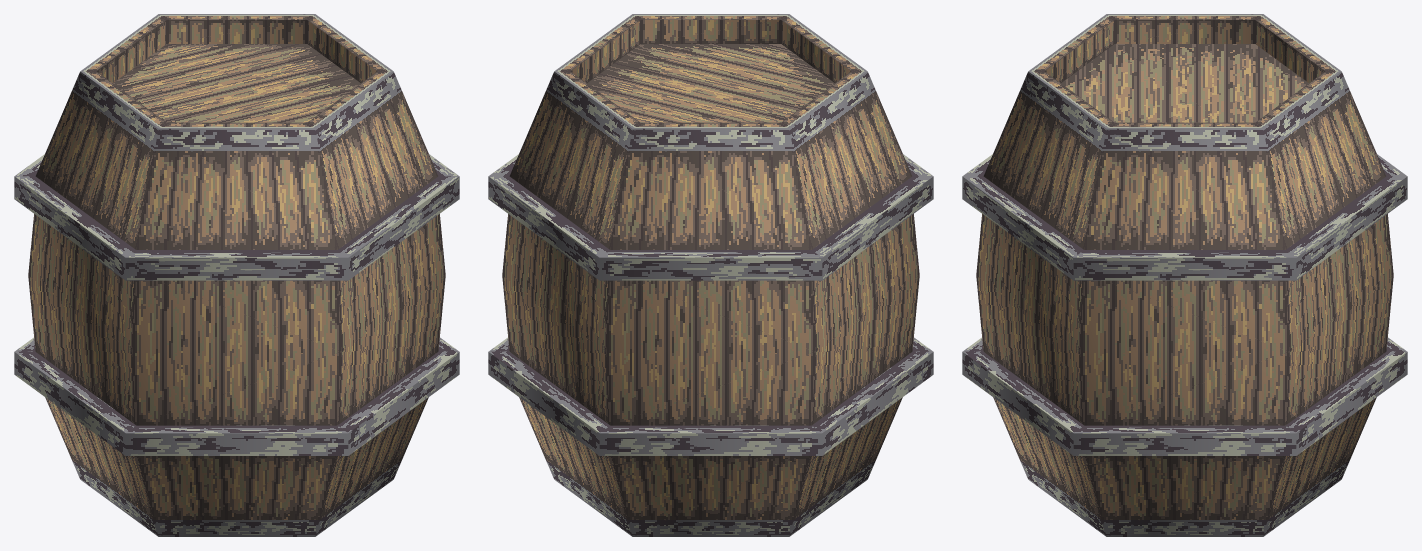
The model's file is barrel.glb.
The picture shows the model from 3 angles, left to right: view 1: azimuth 30°, elevation 25°; view 2: azimuth 150°, elevation 25°; view 3: azimuth 270°, elevation 25°; orthographic projection.
Visible parts, largest first — view 1: Cylinder; view 2: Cylinder; view 3: Cylinder.
Boxes of the visible parts, box(x1,y1,x2,y2) form: Cylinder: box(14, 14, 459, 536); Cylinder: box(488, 14, 933, 536); Cylinder: box(962, 14, 1407, 536).
Size of the model in its own units: 1.81 by 2.11 by 2.09.
Materials: 1 (1 with a texture image).
